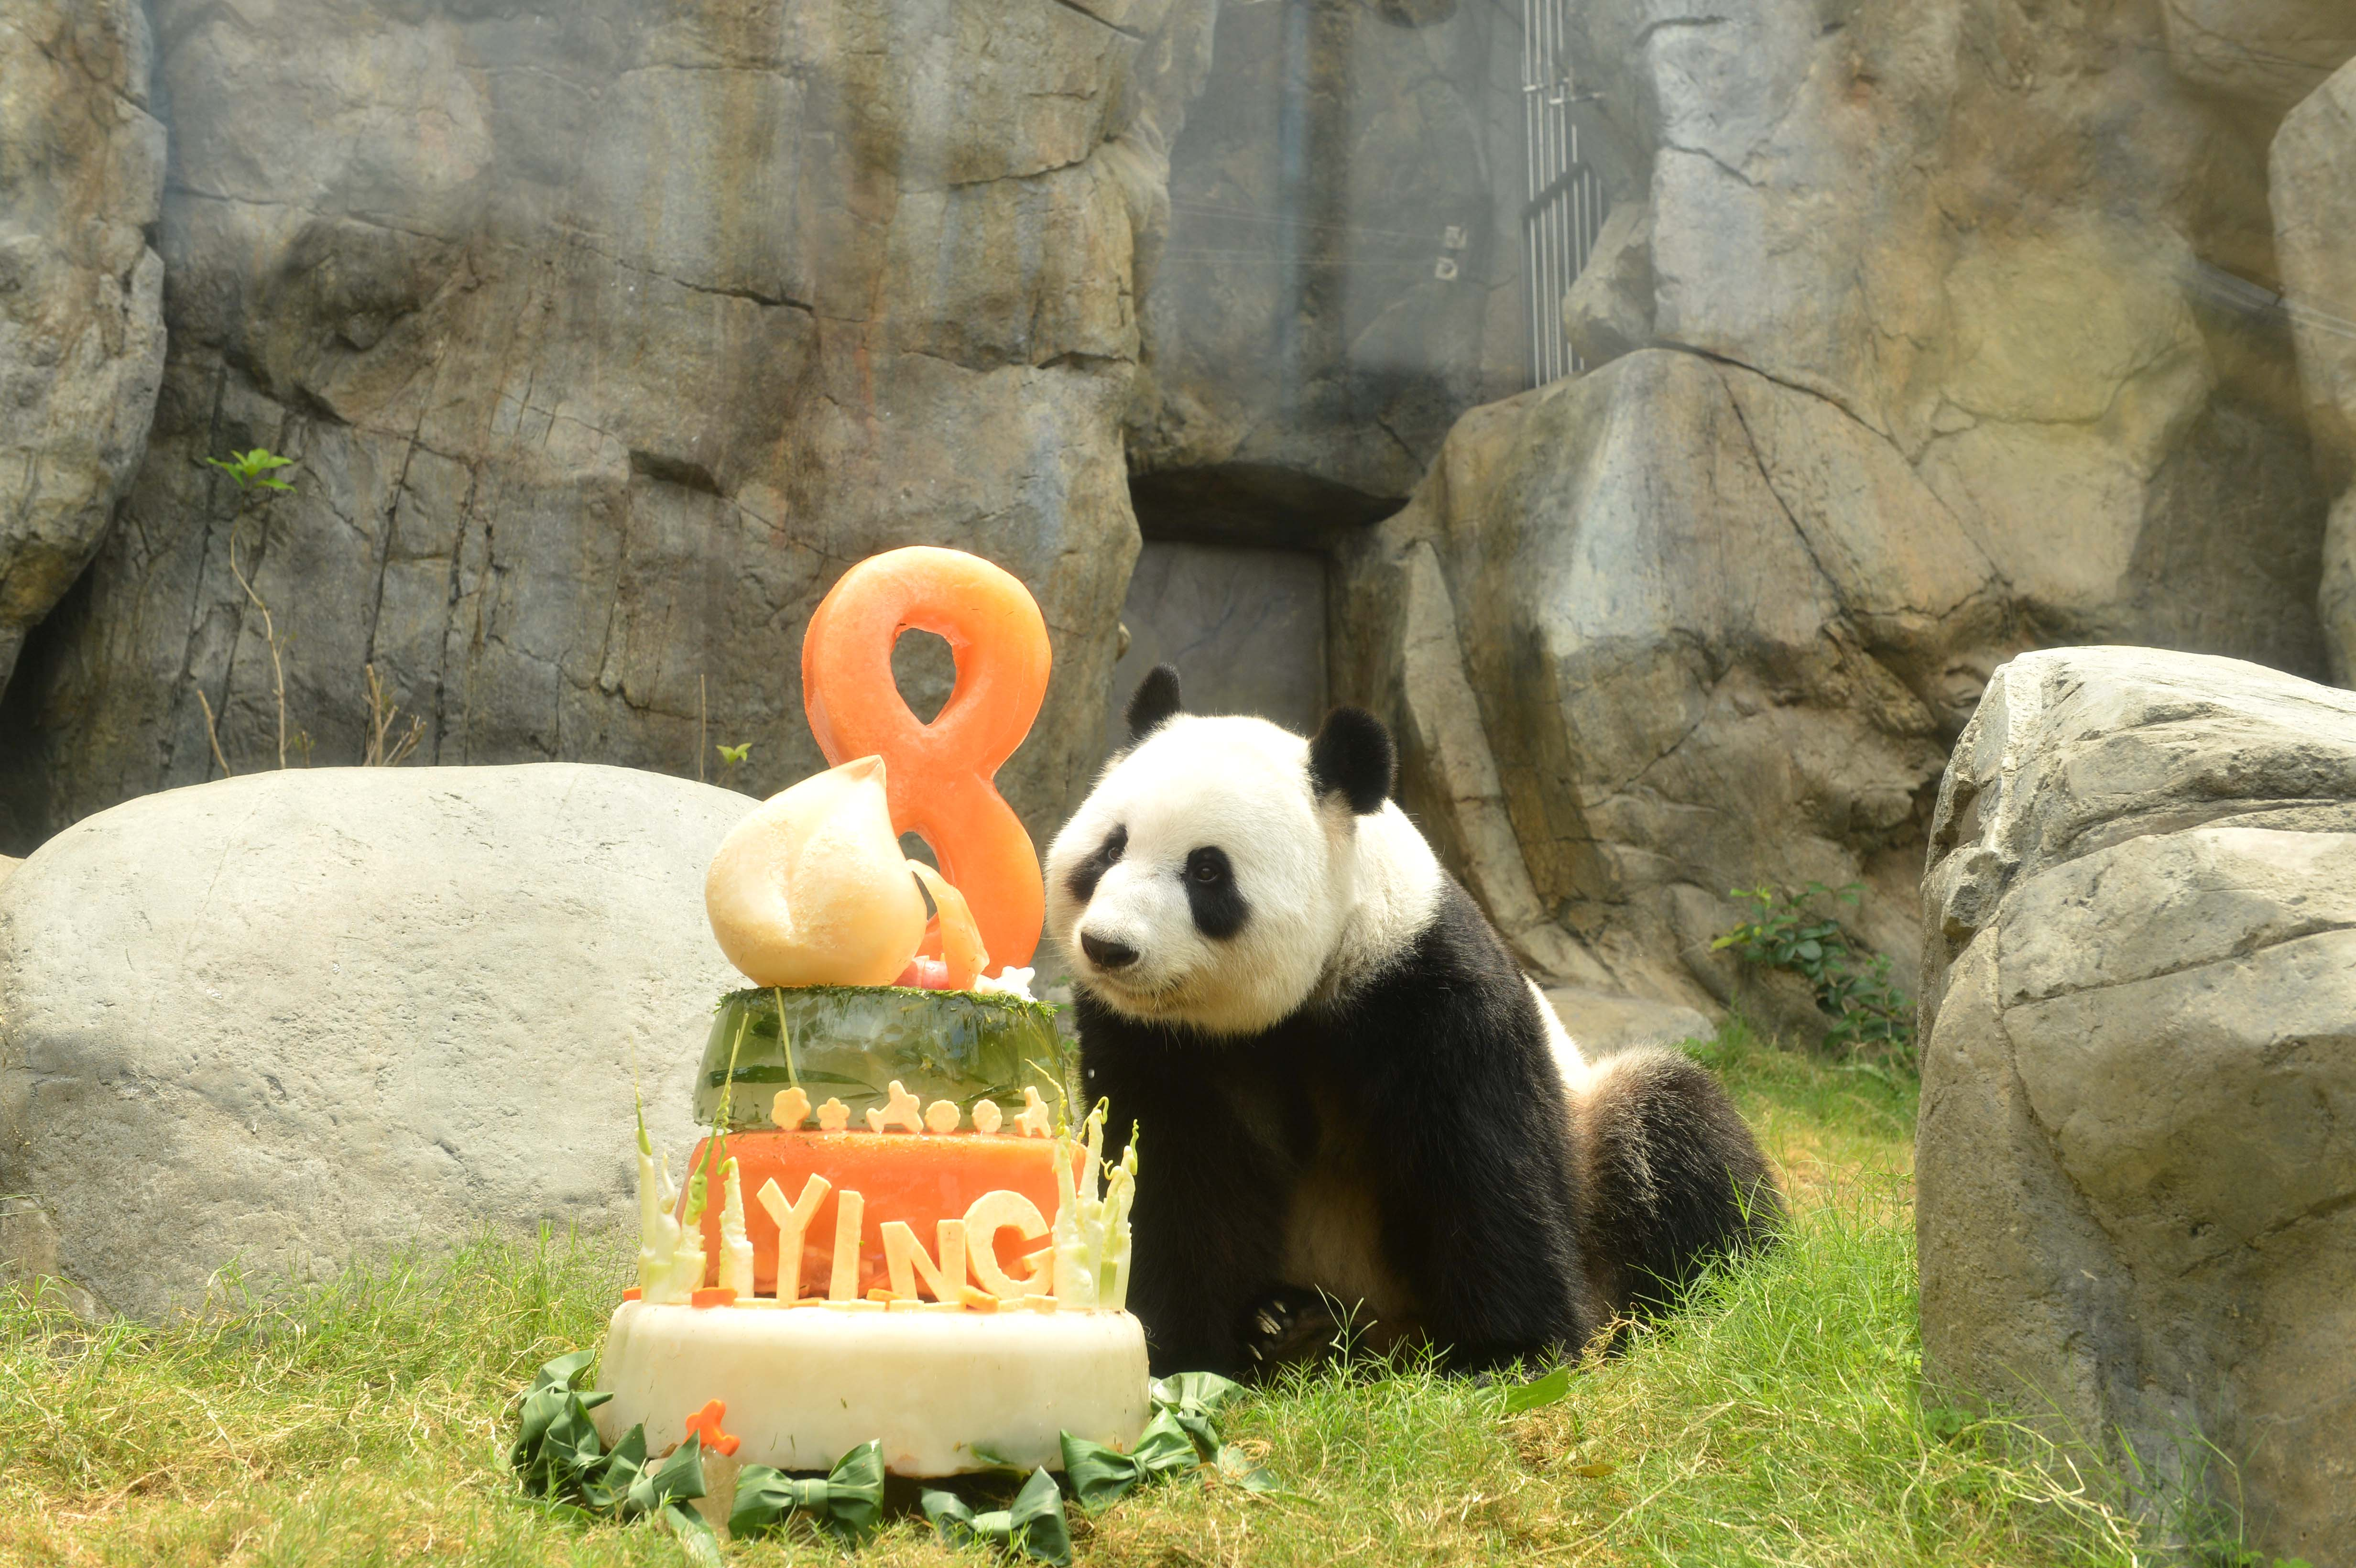panda: (999, 633, 1894, 1440)
